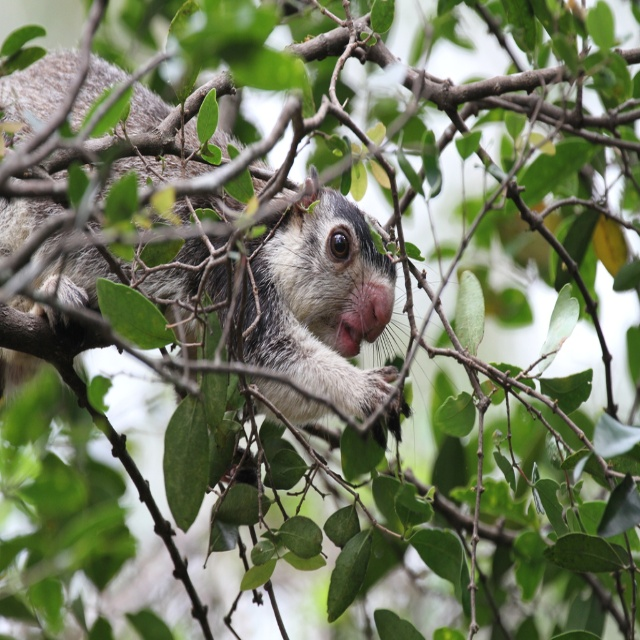Squirrel: (0, 46, 460, 475)
